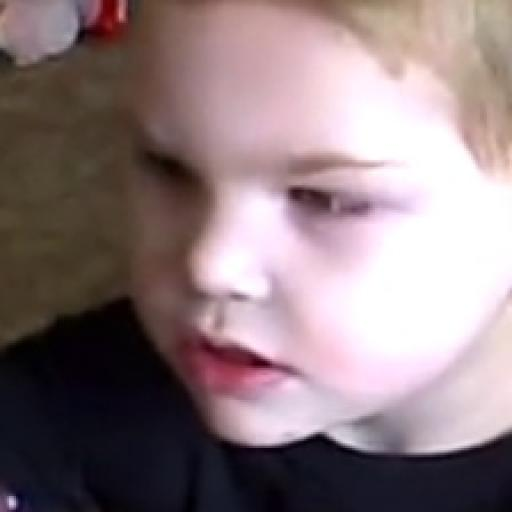Autism: (135, 3, 492, 478)
